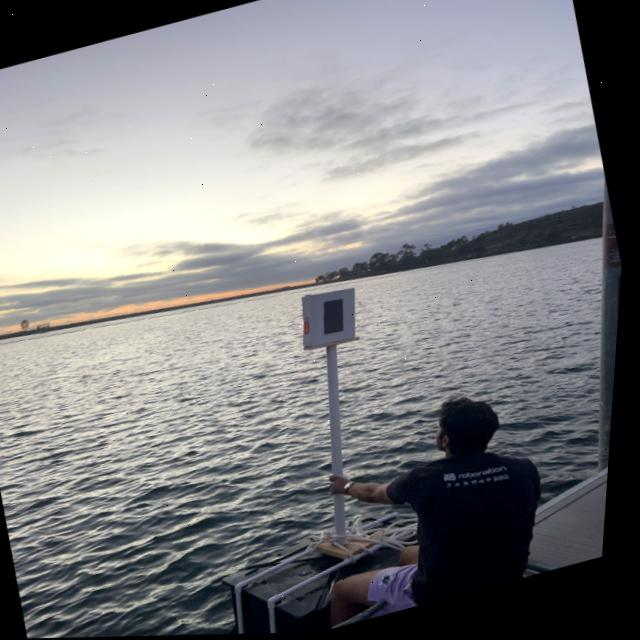led: (308, 287, 364, 350)
